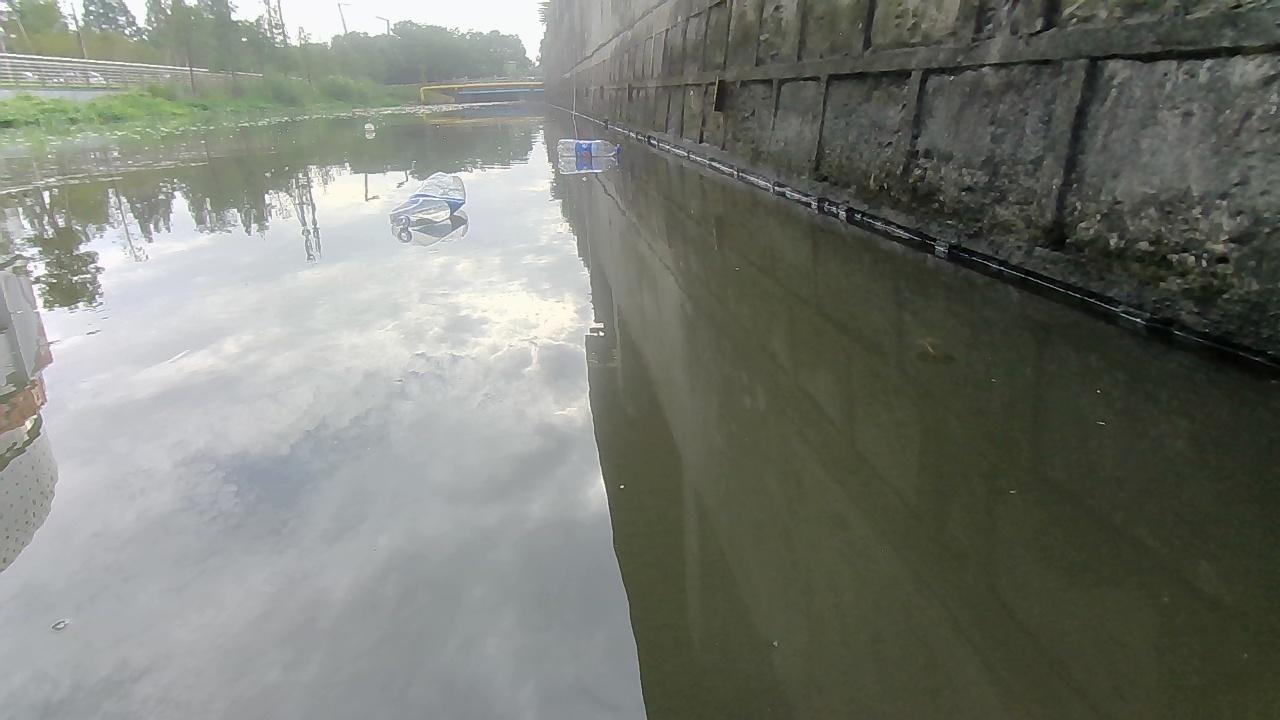bottle: (387, 173, 461, 234), (556, 137, 623, 157), (362, 122, 379, 132)
